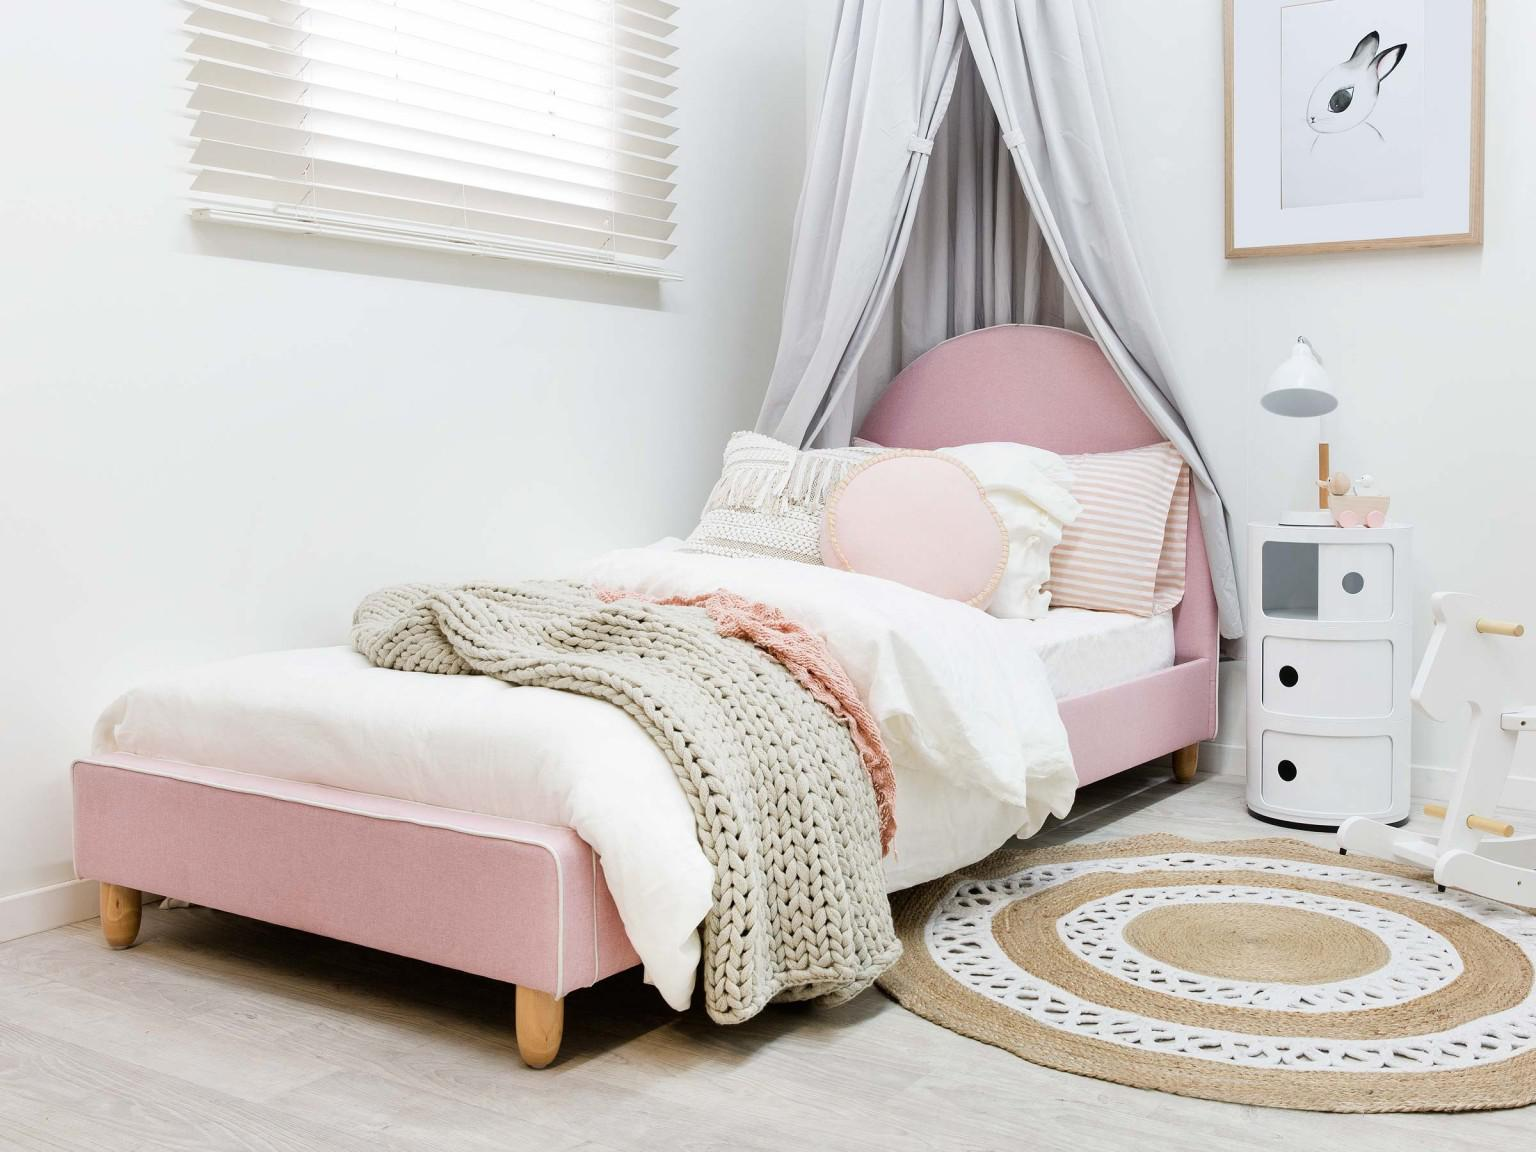bed: (62, 313, 1303, 1077)
